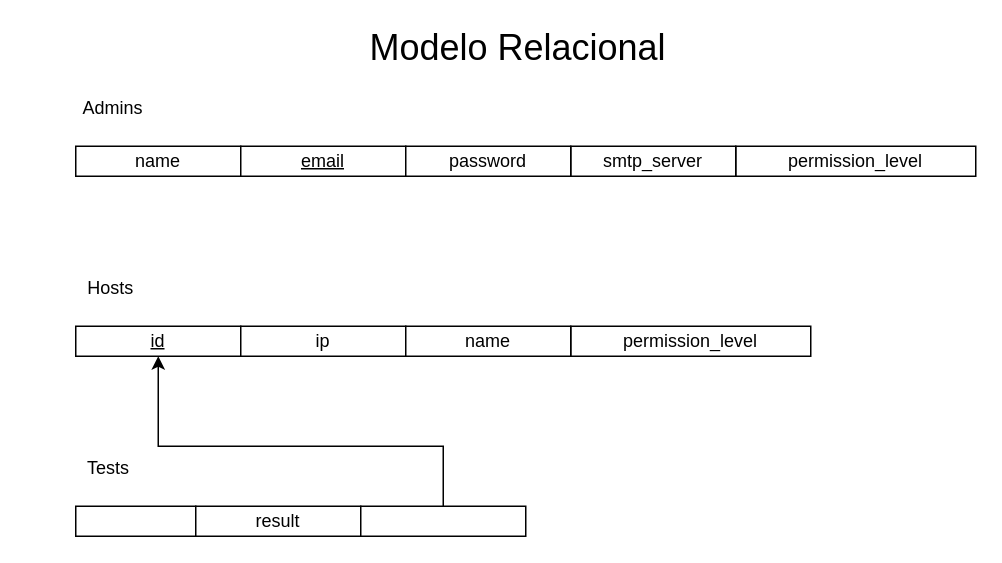
Image size: 1002x563. Some labels were removed from this diagram. The shapes that lost their labels are listed below. From the top down, each one's box as (x1, y1, x2, y2) in pixels, then its label:
(74, 505, 196, 536): timestamp
(359, 505, 526, 536): host
